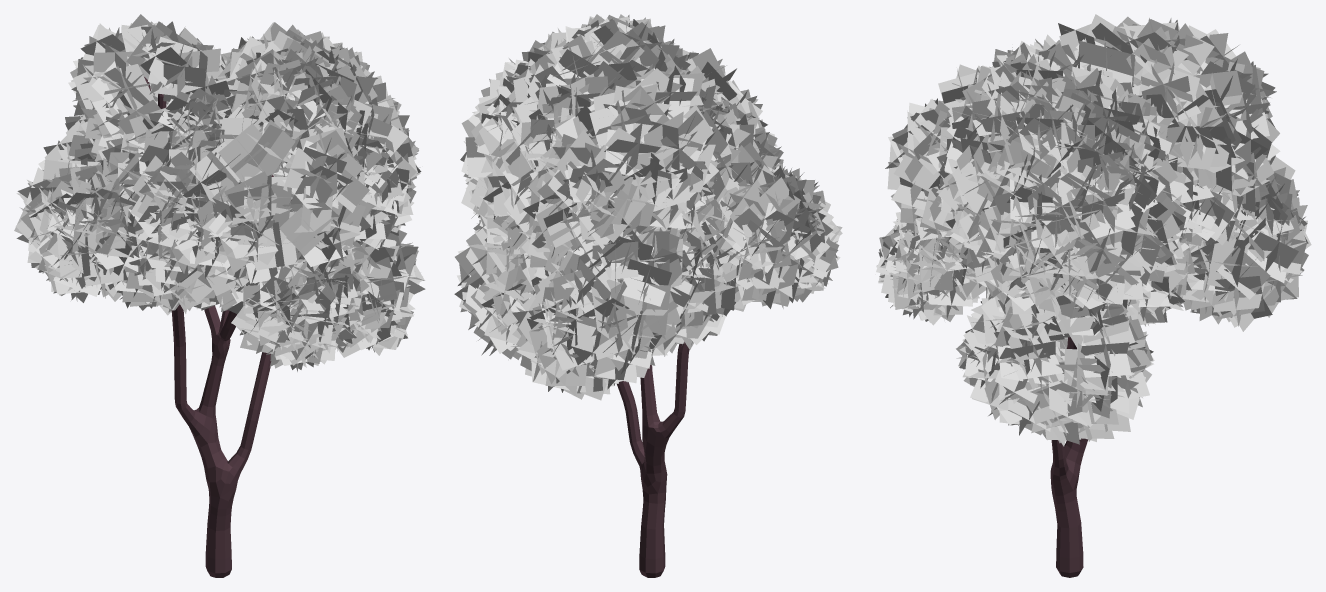
Rendered from tree try.fbx.
3 renders of one model, left to right at view 1: azimuth 30°, elevation 25°; view 2: azimuth 150°, elevation 25°; view 3: azimuth 270°, elevation 25°, orthographic. The views are drawn at different scales.
Parts seen in each view (by area): view 1: Leaves, Trunk; view 2: Leaves, Trunk; view 3: Leaves, Trunk.
Boxes of the visible parts, x1,y1,x2,y2 form: Leaves: [14, 14, 425, 371]; Trunk: [144, 77, 291, 577]; Leaves: [454, 14, 842, 400]; Trunk: [617, 342, 689, 577]; Leaves: [876, 14, 1311, 446]; Trunk: [1050, 337, 1087, 577].
Bounding box in the file's own units: 1696 × 2325 × 1684.
